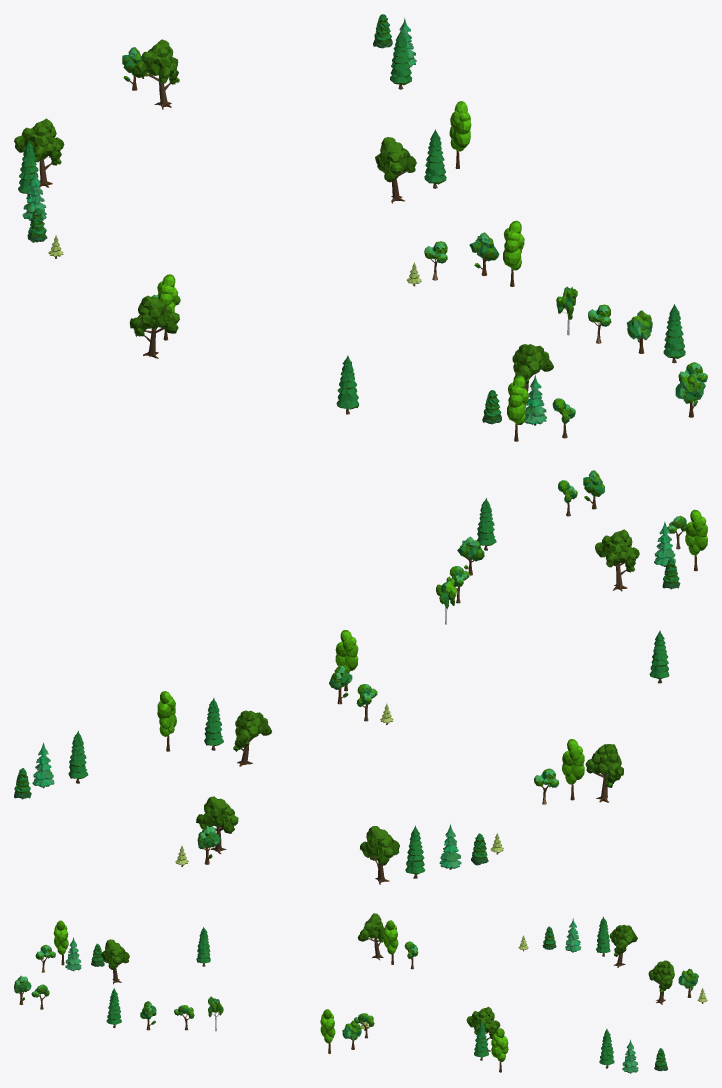
The model's file is trees.fbx.
3 views of the same model, one above another, from view 1: azimuth 30°, elevation 25°; view 2: azimuth 150°, elevation 25°; view 3: azimuth 270°, elevation 25° (orthographic). The views are drawn at different scales.
Parts seen in each view (by area): view 1: _6_tree.001, _6_tree.004, _6_tree.005, _6_tree.003, _6_tree.002, _7_tree.003, _7_tree.004, _7_tree.001, _2_tree.002, _2_tree.004, _2_tree.003, _2_tree.005 (+2 smaller); view 2: _6_tree.002, _6_tree.001, _6_tree.005, _6_tree.004, _6_tree.003, _7_tree.004, _7_tree.002, _7_tree.001, _7_tree.003, _2_tree.005, _2_tree.002, _2_tree.003 (+2 smaller); view 3: _6_tree.001, _6_tree.005, _6_tree.004, _6_tree.002, _6_tree.003, _7_tree.003, _7_tree.001, _7_tree.002, _7_tree.004, _2_tree.002, _2_tree.005, _2_tree.001 (+10 smaller).
Part boxes in pixels (x1,y1,x2,y2): _6_tree.001: [129, 295, 179, 358]; _6_tree.004: [132, 39, 179, 109]; _6_tree.005: [14, 118, 64, 187]; _6_tree.003: [375, 137, 416, 203]; _6_tree.002: [512, 344, 553, 402]; _7_tree.003: [449, 101, 471, 168]; _7_tree.004: [507, 375, 528, 441]; _7_tree.001: [503, 220, 524, 286]; _2_tree.002: [424, 129, 446, 188]; _2_tree.004: [663, 304, 685, 363]; _2_tree.003: [390, 30, 411, 89]; _2_tree.005: [336, 355, 358, 414]; _6_tree.002: [595, 529, 639, 591]; _6_tree.001: [585, 744, 623, 802]; _6_tree.005: [360, 826, 399, 884]; _6_tree.004: [196, 796, 238, 853]; _6_tree.003: [233, 710, 271, 766]; _7_tree.004: [685, 509, 707, 571]; _7_tree.002: [562, 739, 584, 800]; _7_tree.001: [335, 630, 358, 691]; _7_tree.003: [157, 691, 176, 751]; _2_tree.005: [649, 630, 669, 683]; _2_tree.002: [204, 698, 223, 750]; _2_tree.003: [68, 730, 88, 783]; _6_tree.001: [357, 913, 384, 960]; _6_tree.005: [610, 925, 637, 967]; _6_tree.004: [648, 960, 674, 1004]; _6_tree.002: [101, 939, 129, 984]; _6_tree.003: [466, 1006, 500, 1051]; _7_tree.003: [491, 1028, 508, 1072]; _7_tree.001: [320, 1009, 335, 1053]; _7_tree.002: [383, 920, 398, 964]; _7_tree.004: [53, 920, 68, 965]; _2_tree.002: [474, 1020, 488, 1060]; _2_tree.005: [196, 927, 210, 966]; _2_tree.001: [596, 916, 610, 956].
Bounding box in the file's own units: 118 × 28.54 × 223.
9 materials, 9 textured.
